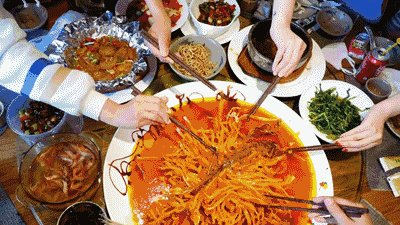food: (108, 87, 337, 218), (120, 120, 229, 208), (19, 127, 110, 204), (58, 24, 154, 91), (299, 75, 369, 140), (9, 76, 75, 143), (165, 29, 225, 79), (188, 0, 242, 38), (155, 0, 188, 28)
